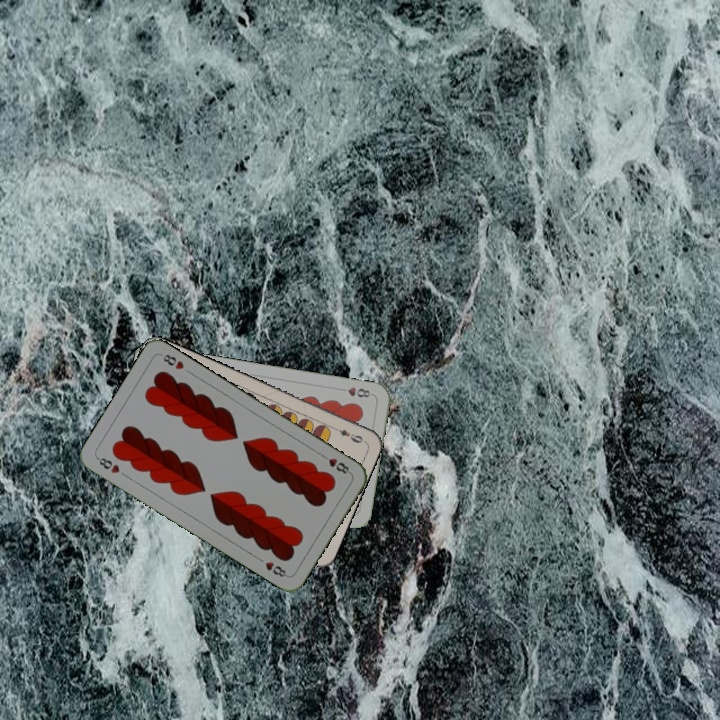E9: (329, 422, 366, 446)
H8: (317, 450, 353, 477), (335, 383, 375, 400), (93, 453, 122, 476)
